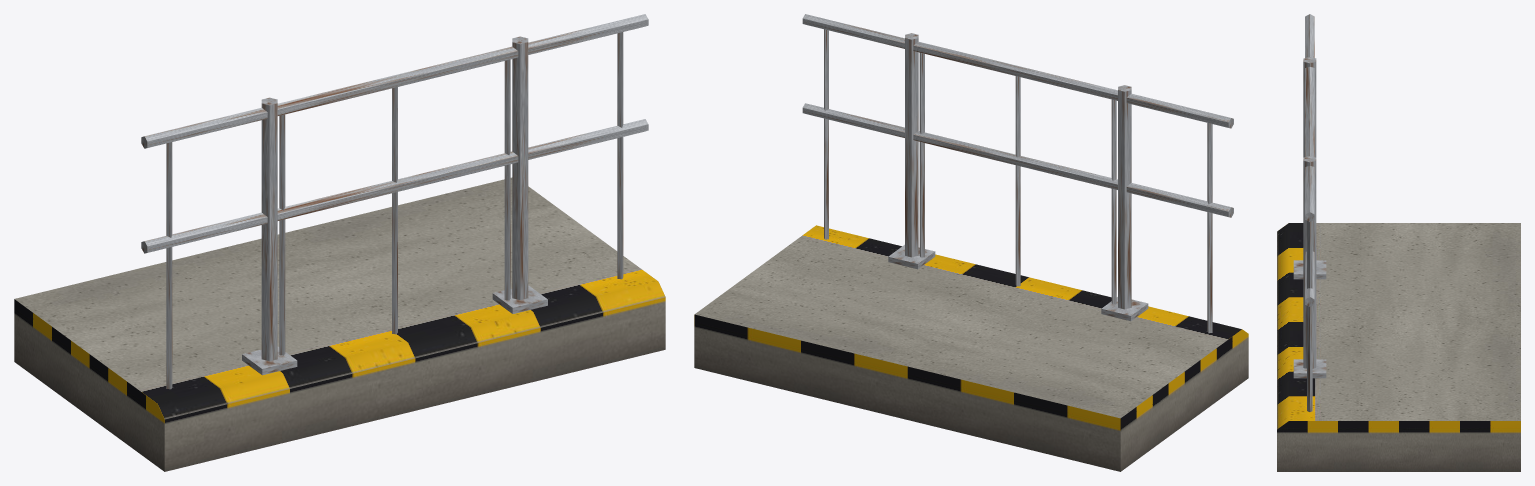
File: env_bleacher-7iXyIFxU.glb
3 views of the same model, side by side, from view 1: azimuth 30°, elevation 25°; view 2: azimuth 150°, elevation 25°; view 3: azimuth 270°, elevation 25° (orthographic). The views are drawn at different scales.
Visible parts, largest first — view 1: env_bleacher_body; view 2: env_bleacher_body; view 3: env_bleacher_body.
Part boxes in pixels (x1,y1,x2,y2): env_bleacher_body: (14, 14, 665, 471); env_bleacher_body: (694, 14, 1248, 471); env_bleacher_body: (1277, 14, 1520, 471).
Size of the model in its own units: 1 by 0.62 by 0.52.
Materials: 1 (1 with a texture image).
